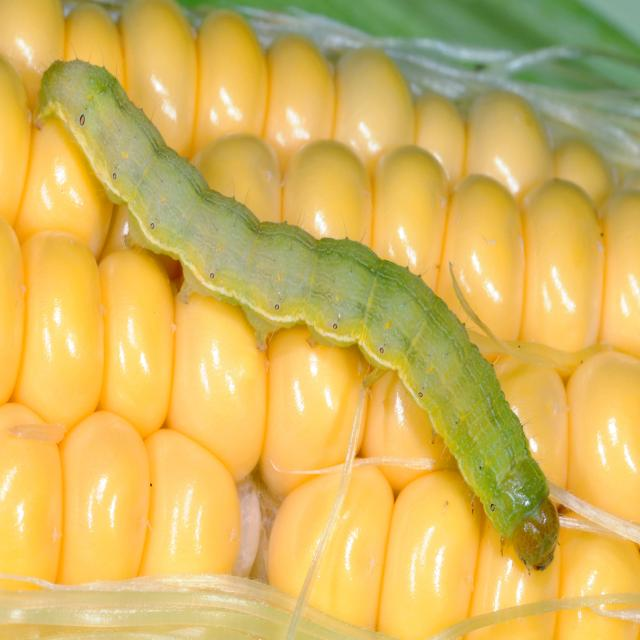Corn-earworm: (44, 54, 563, 598)
